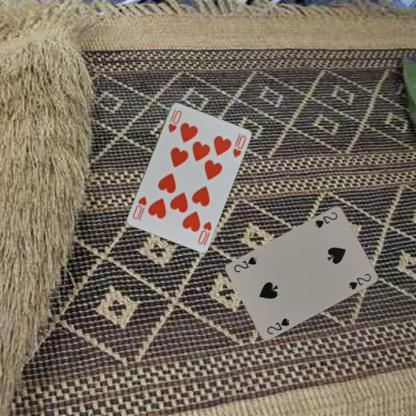10h: (195, 218, 213, 246), (165, 106, 183, 133)
2s: (313, 209, 339, 229), (264, 315, 290, 335)
